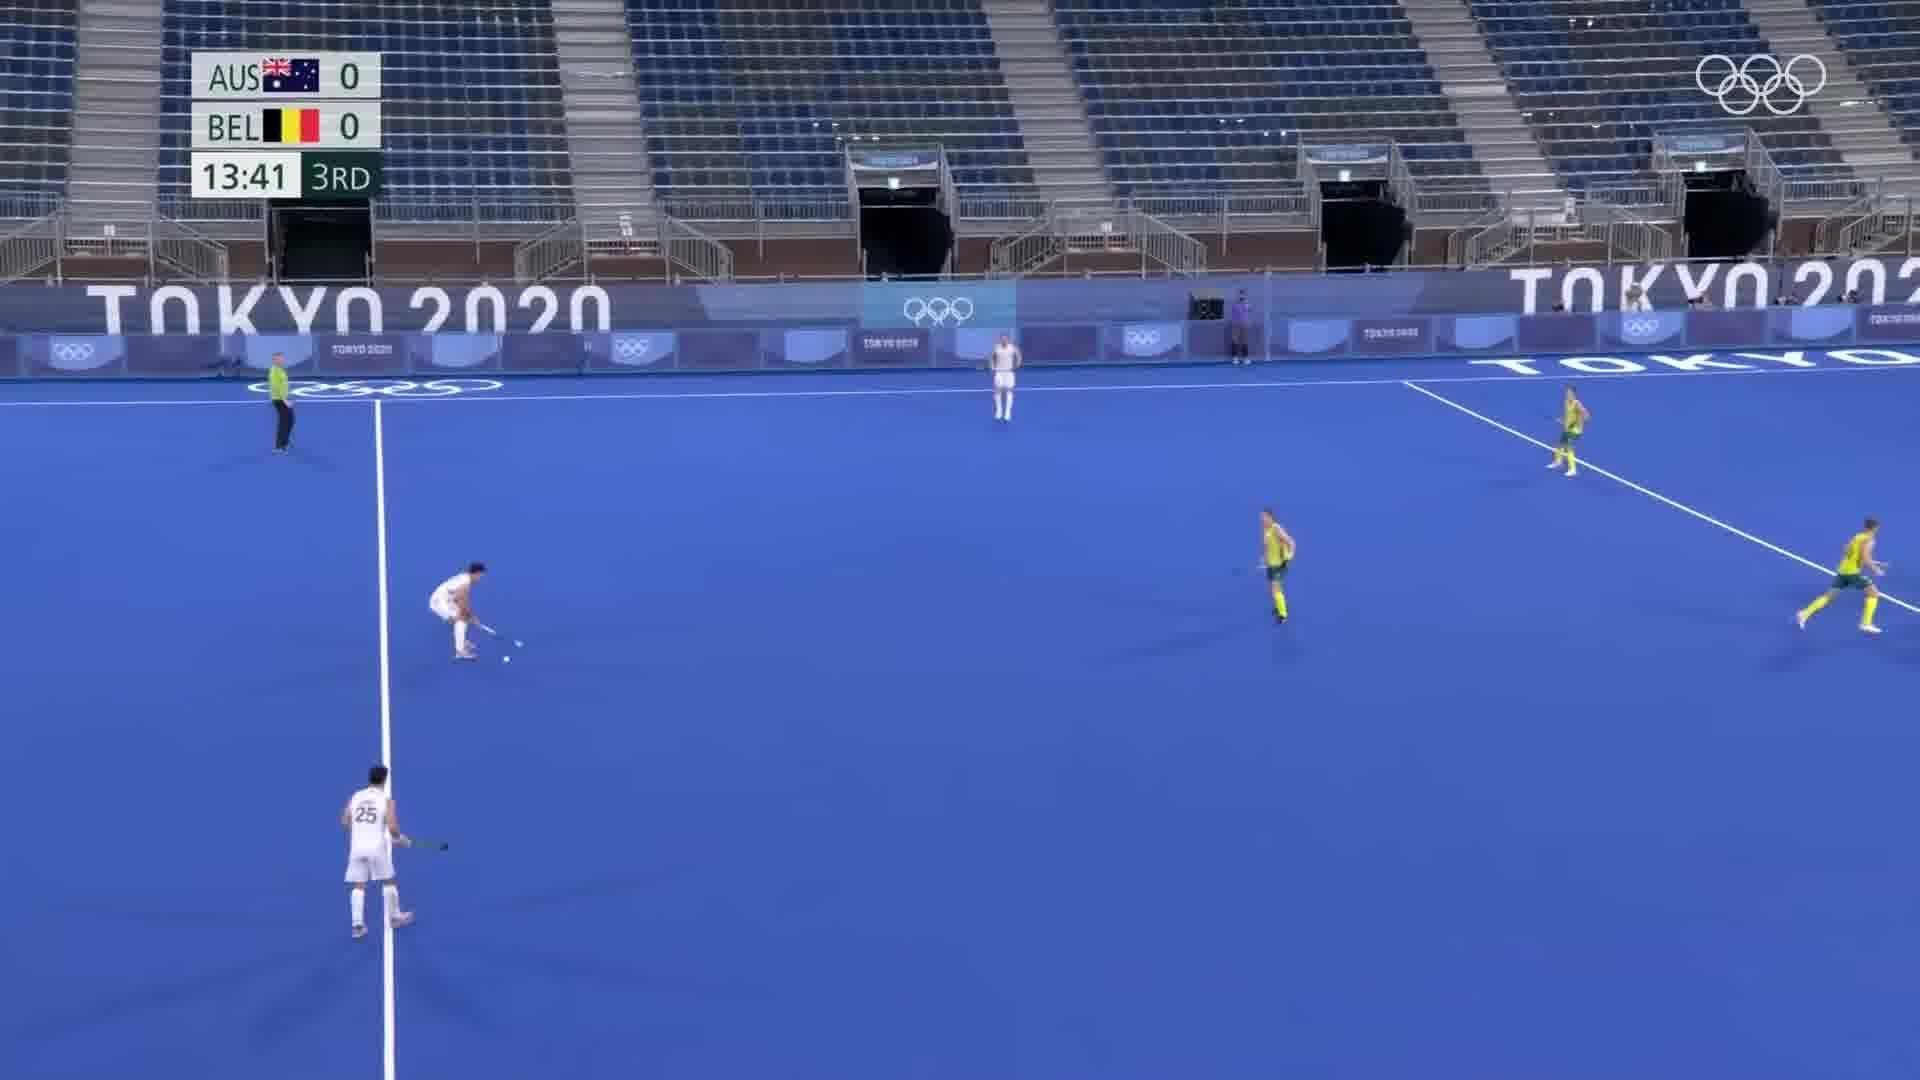ball: (497, 653, 514, 666)
